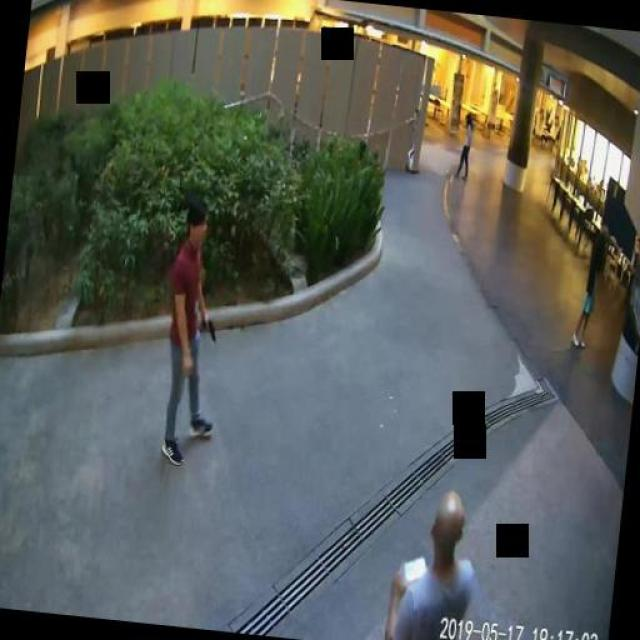gun: (199, 315, 216, 341)
